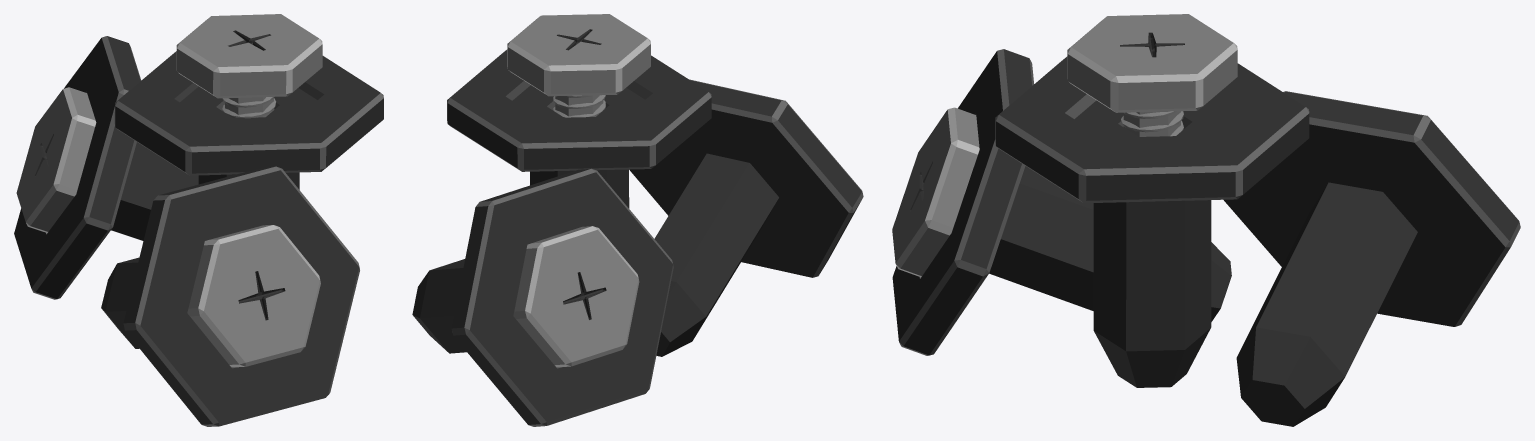
Rendered from SM_Int_Rivets.fbx.
3 renders of one model, left to right at view 1: azimuth 30°, elevation 25°; view 2: azimuth 150°, elevation 25°; view 3: azimuth 270°, elevation 25°, orthographic. The views are drawn at different scales.
Visible parts, largest first — view 1: SM_Int_Rivets; view 2: SM_Int_Rivets; view 3: SM_Int_Rivets.
Part boxes in pixels (<box>): SM_Int_Rivets: <box>14,14,383,426</box>; SM_Int_Rivets: <box>412,14,863,426</box>; SM_Int_Rivets: <box>892,14,1520,426</box>.
Bounding box in the file's own units: 0.67 × 0.58 × 1.
1 material, 1 textured.
